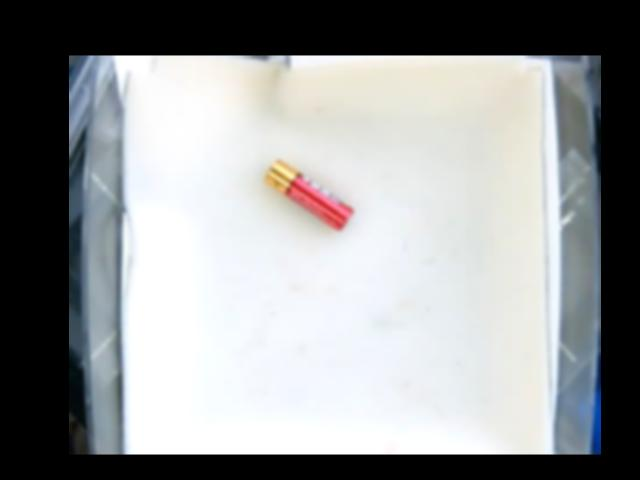Battery: (262, 157, 355, 230)
